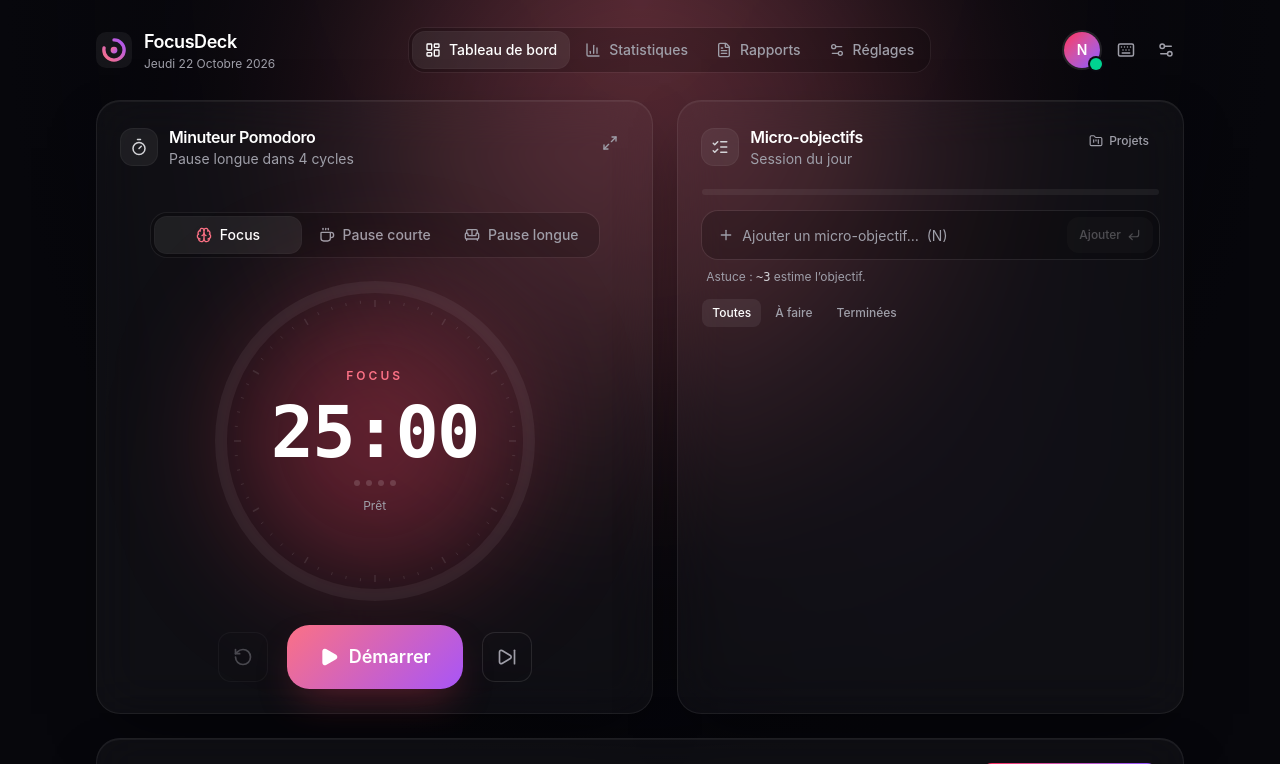
it: Comptes (EF-C02 à C06) › garde une copie locale si demandé
The width and height of the screenshot is (1280, 764).
// Attendre la bascule en mode connecté (l'arbre se remonte) avant de saisir.
Type "À garder" into the field named "Nouvel objectif" at (901, 235), box [742,217,1059,253]
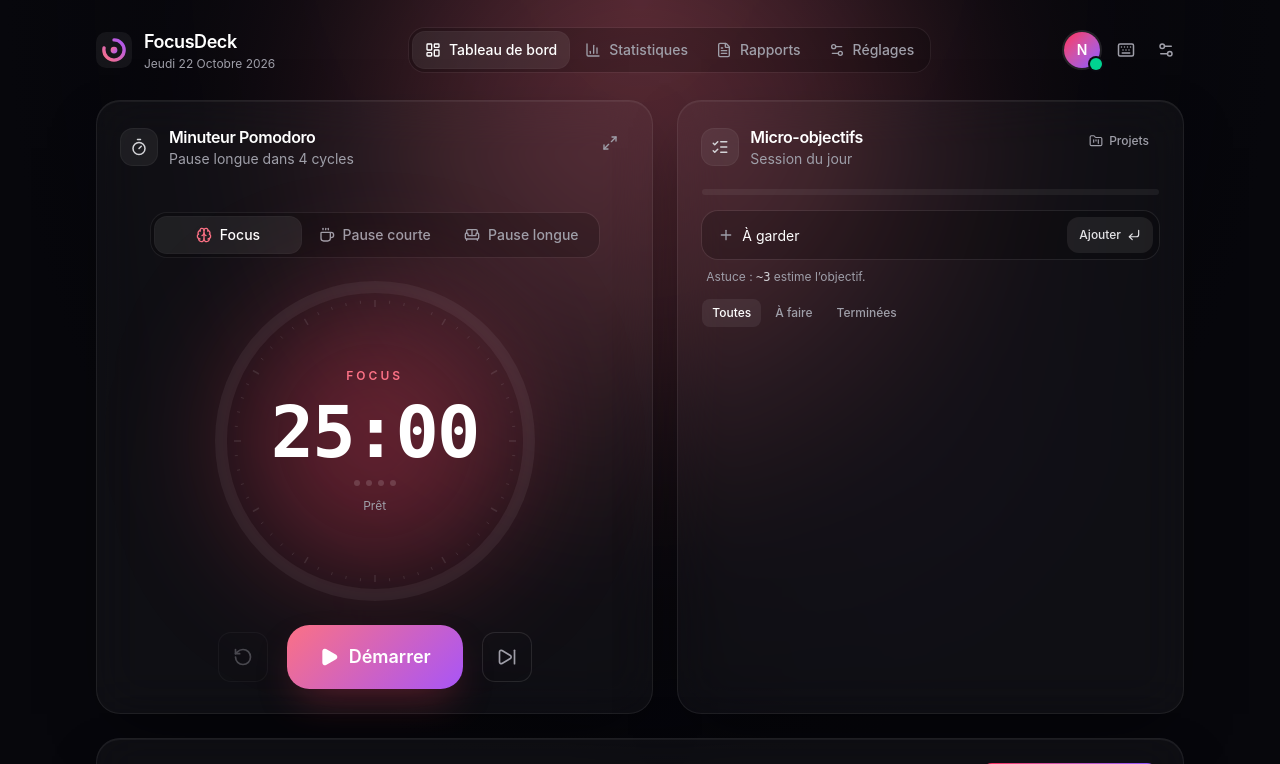
Submit the form named "Nouvel objectif", box [702,211,1159,259]
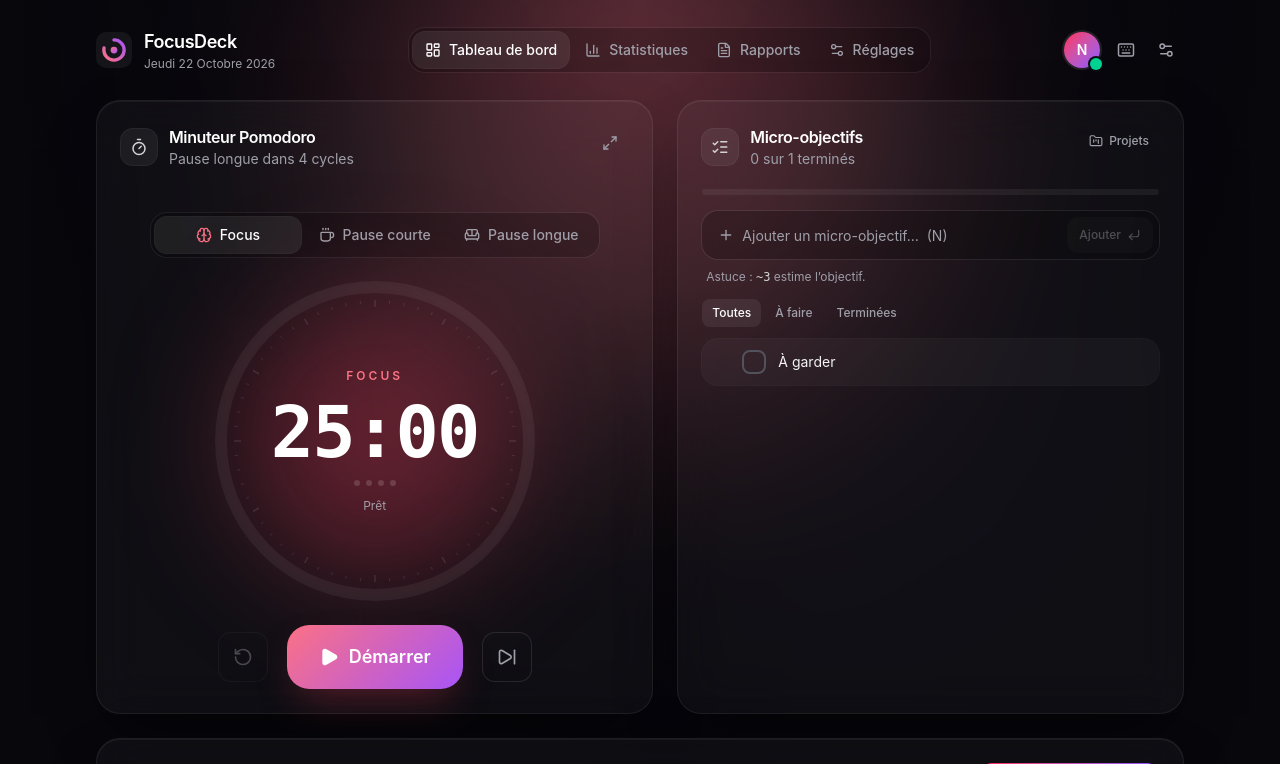
Click the button named "Mon compte" at (1082, 50), box [1064,32,1100,68]
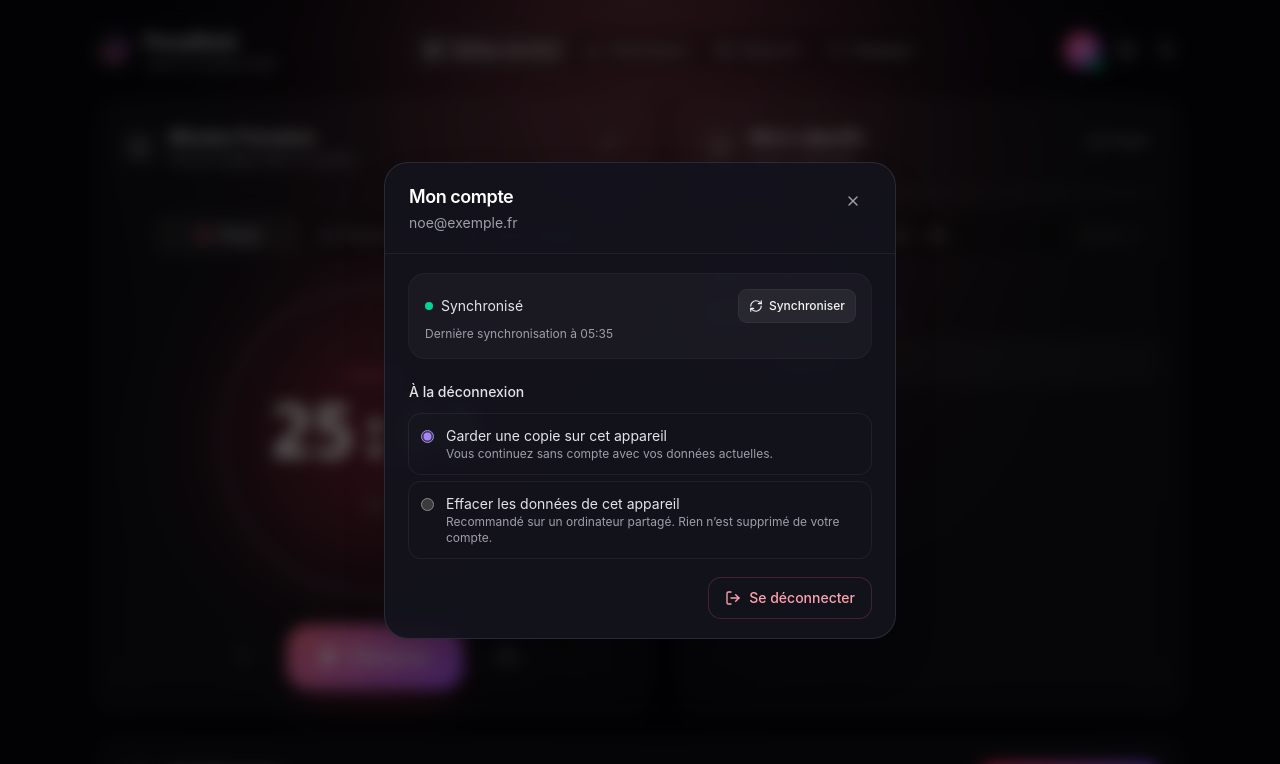
Click the button "Se déconnecter" at (790, 598), box [709,578,871,618]
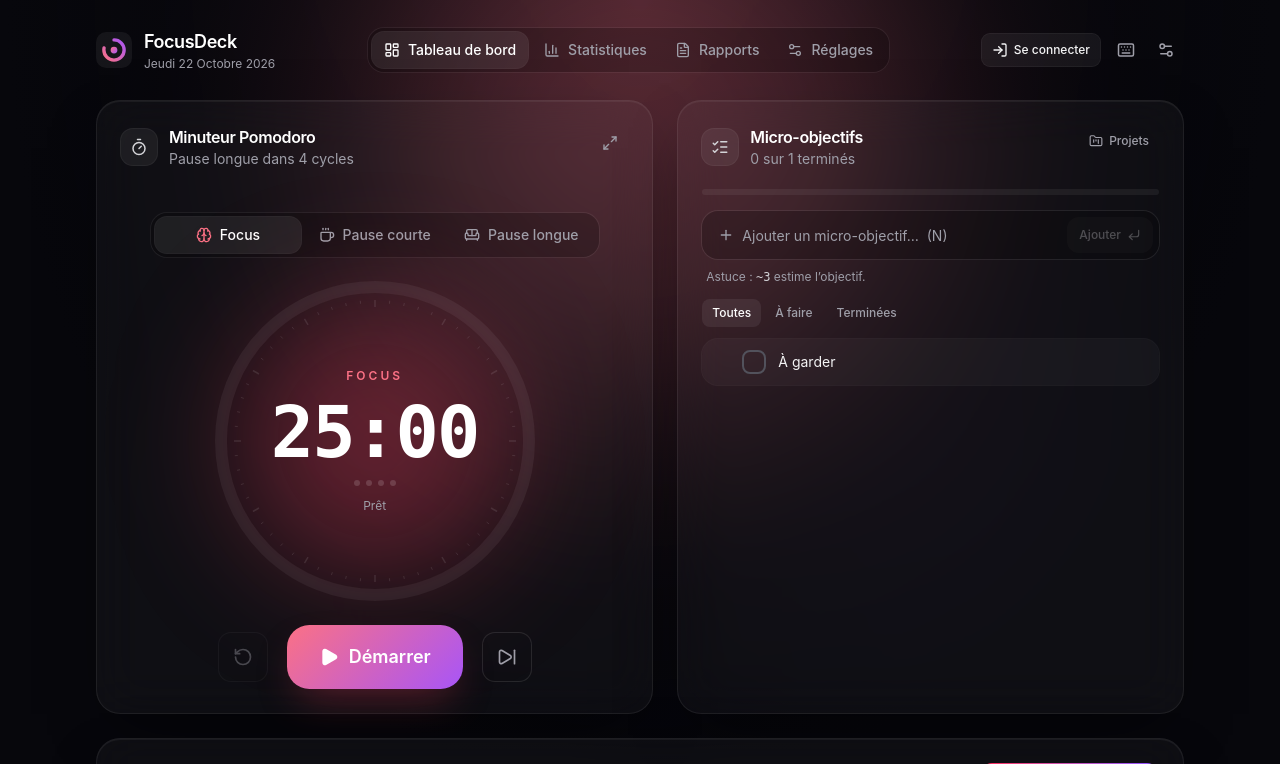
Check: the checkbox named "À garder" is shown, box [742,350,766,374]
Check: the button "Se connecter" is shown, box [982,34,1100,66]
